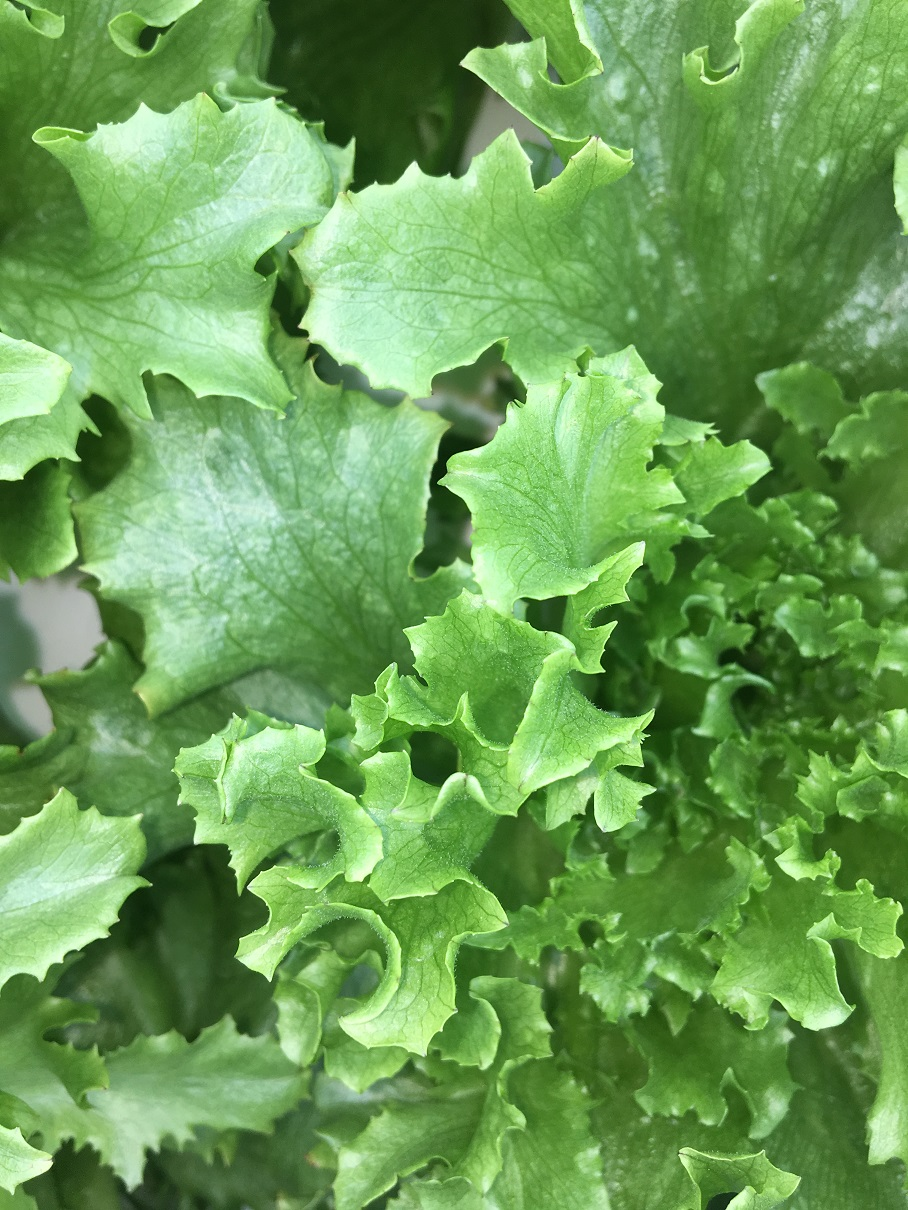tipburn: (79, 1067, 130, 1119), (119, 670, 165, 720), (289, 1132, 334, 1181), (254, 1172, 304, 1210), (8, 720, 42, 769), (291, 313, 328, 357), (582, 121, 619, 160), (413, 377, 451, 412), (583, 55, 625, 82), (270, 211, 303, 242)
